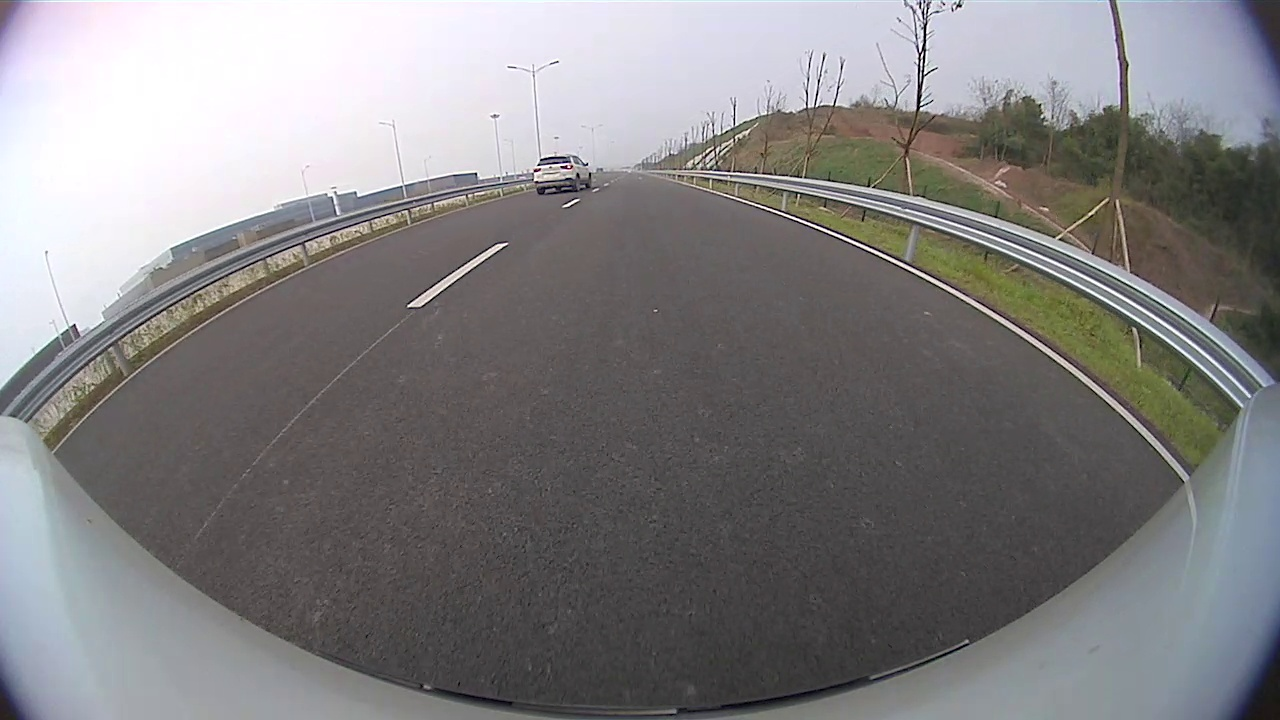car: (532, 153, 594, 195)
rear: (574, 174, 582, 194)
